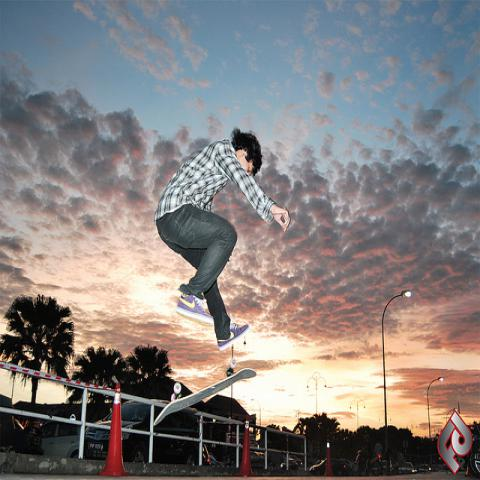car: (84, 402, 200, 466), (40, 420, 80, 458), (13, 418, 44, 456), (310, 458, 346, 475), (281, 458, 298, 470), (340, 459, 351, 469), (250, 452, 259, 462)
